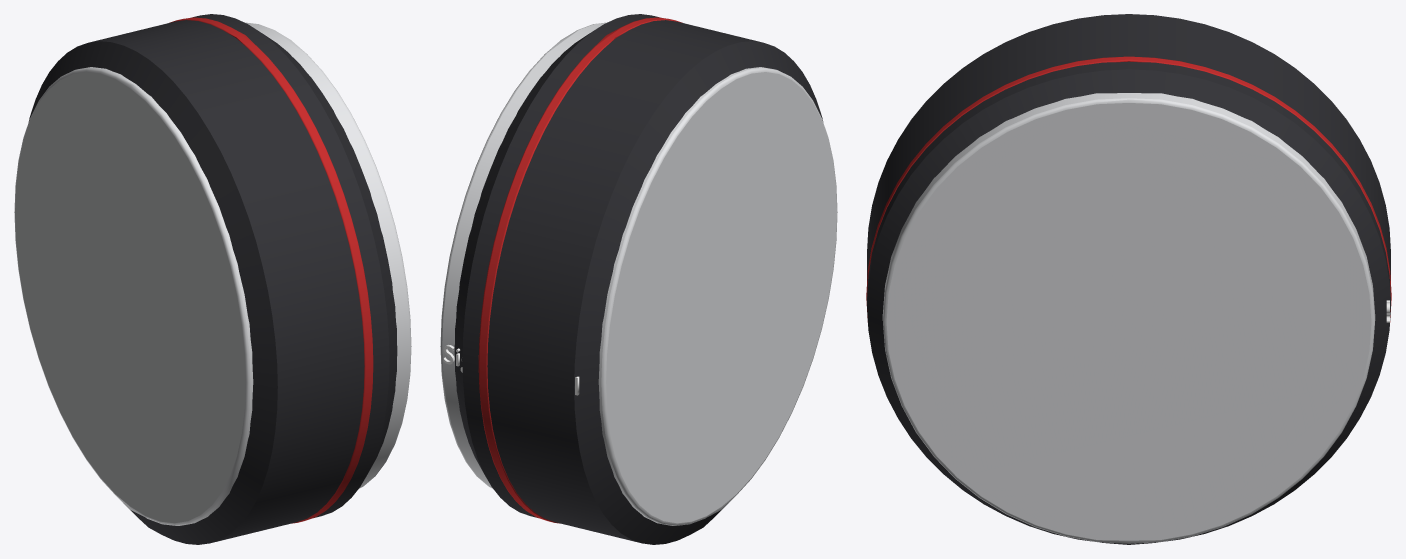
File: sigma_mc11.glb
3 renders of one model, left to right at view 1: azimuth 30°, elevation 25°; view 2: azimuth 150°, elevation 25°; view 3: azimuth 270°, elevation 25°, orthographic.
Visible parts, largest first — view 1: Sigma MC-11; view 2: Sigma MC-11; view 3: Sigma MC-11.
Part boxes in pixels (bbox=[...]): Sigma MC-11: bbox=[14, 14, 411, 544]; Sigma MC-11: bbox=[440, 14, 837, 544]; Sigma MC-11: bbox=[866, 14, 1391, 544].
Bounding box in the file's own units: 0.026 × 0.0723 × 0.0722.
